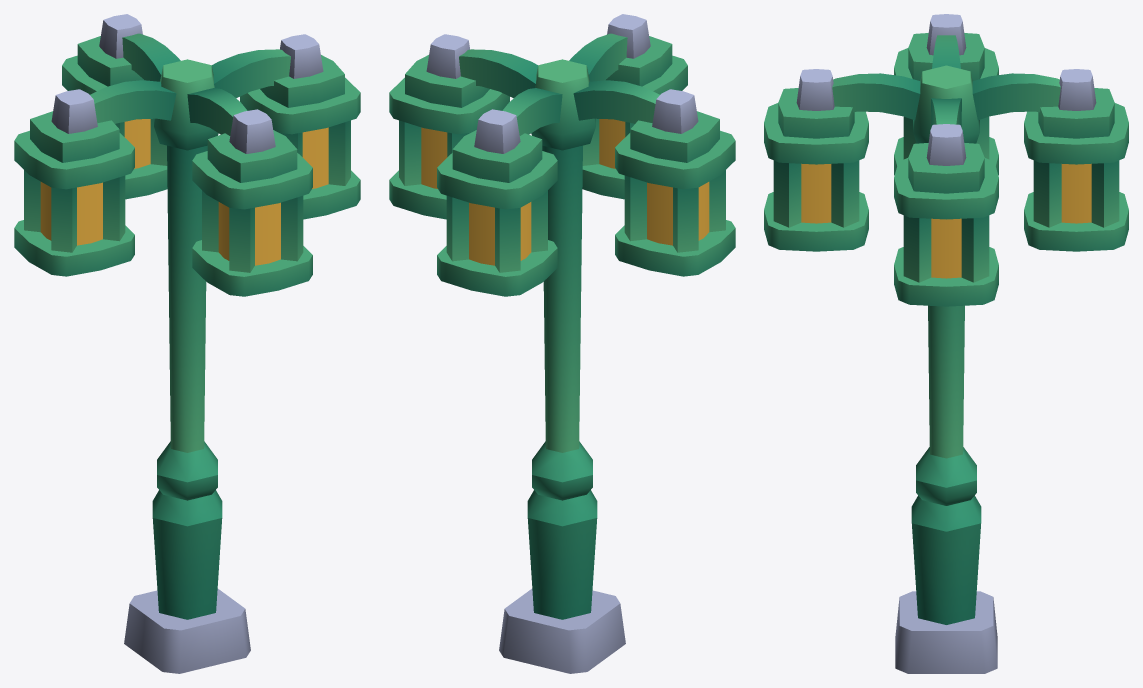
Rendered from lightpost-all.glb.
3 views of the same model, side by side, from view 1: azimuth 30°, elevation 25°; view 2: azimuth 150°, elevation 25°; view 3: azimuth 270°, elevation 25° (orthographic).
Visible parts, largest first — view 1: lightpost-all; view 2: lightpost-all; view 3: lightpost-all.
Boxes of the visible parts, <box> form: lightpost-all: <box>14,14,360,673</box>; lightpost-all: <box>389,14,735,673</box>; lightpost-all: <box>764,14,1128,673</box>.
Size of the model in its own units: 14.53 by 25.33 by 14.53.
1 material, 1 textured.
